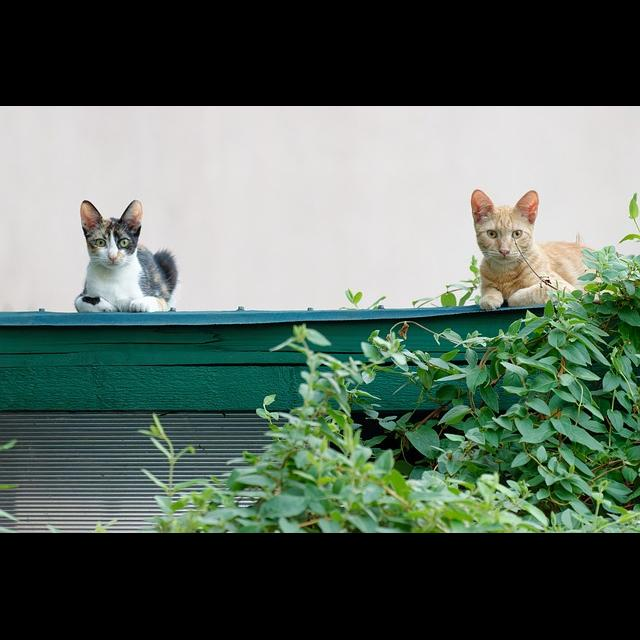animals: (470, 190, 587, 312), (76, 202, 179, 314)
